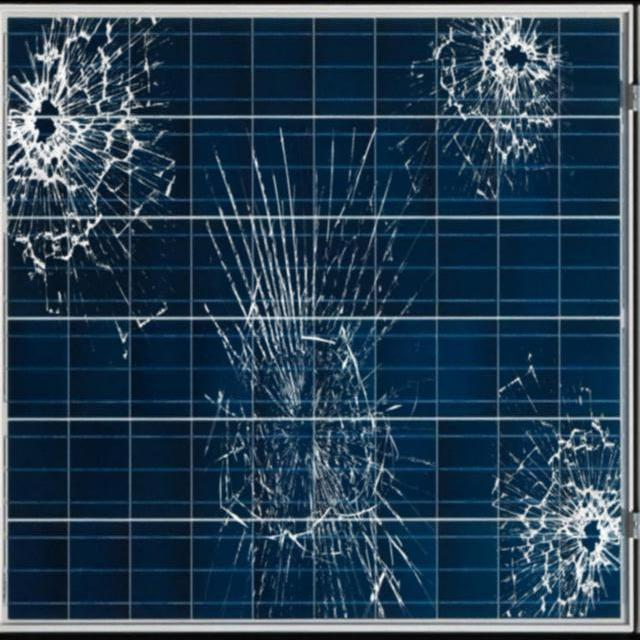cracked: (5, 7, 628, 625)
